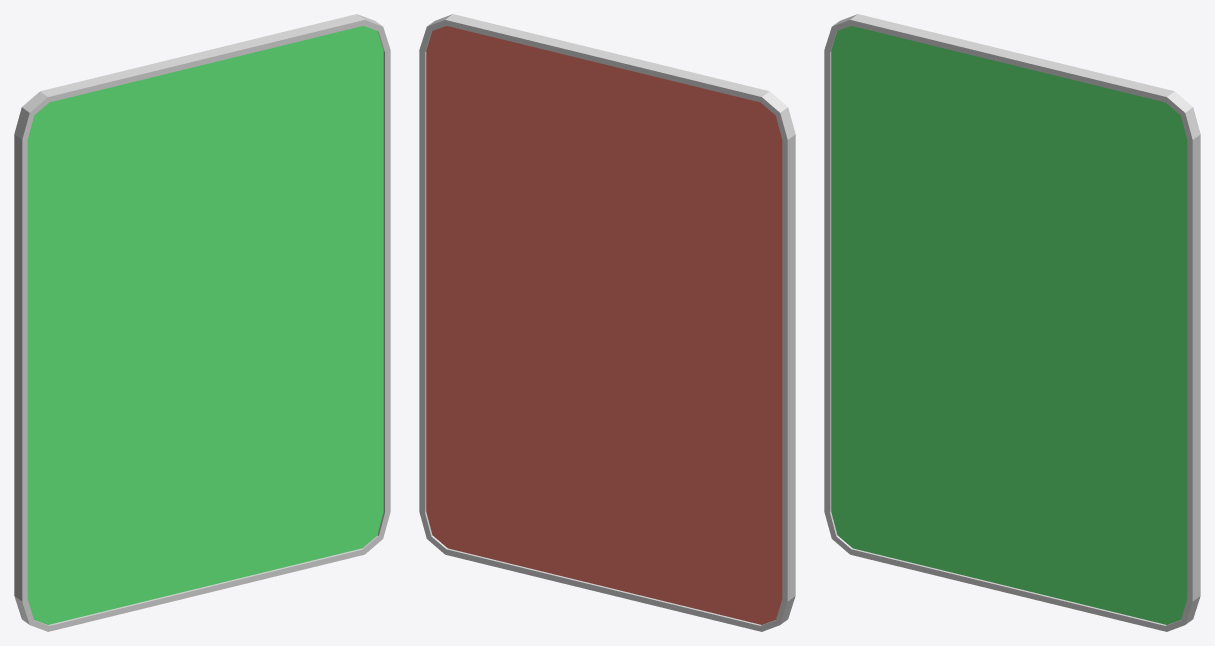
File: card.glb
3 renders of one model, left to right at view 1: azimuth 30°, elevation 25°; view 2: azimuth 150°, elevation 25°; view 3: azimuth 330°, elevation 25°, orthographic.
Parts seen in each view (by area): view 1: Card, Border; view 2: Card, Border; view 3: Card, Border.
Boxes of the visible parts, box(x1,y1,x2,y2) form: Card: box(27, 26, 383, 624); Border: box(14, 14, 390, 631); Card: box(426, 26, 782, 624); Border: box(419, 14, 795, 631); Card: box(831, 26, 1187, 624); Border: box(824, 14, 1200, 631).
Bounding box in the file's own units: 0.0655 × 0.0908 × 0.00245.
Materials: 1 (1 with a texture image).
